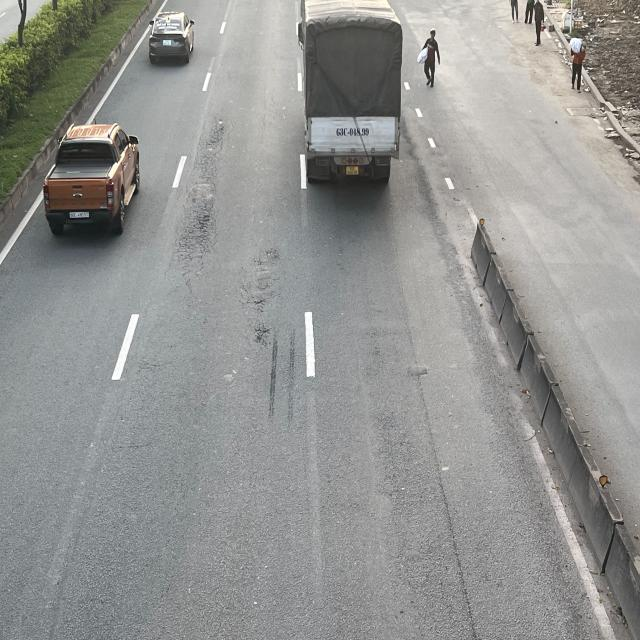car: (42, 122, 141, 236), (151, 13, 199, 69)
truck: (295, 0, 400, 185)
